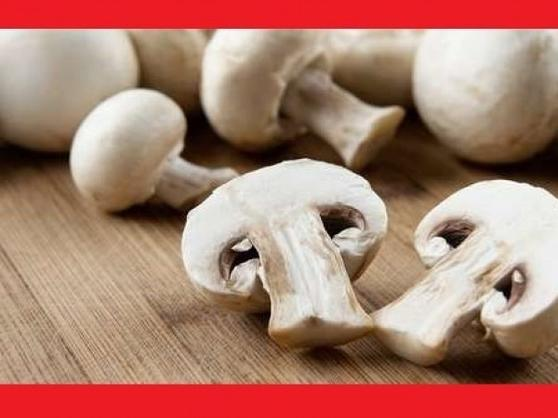champignon: (165, 154, 384, 348)
